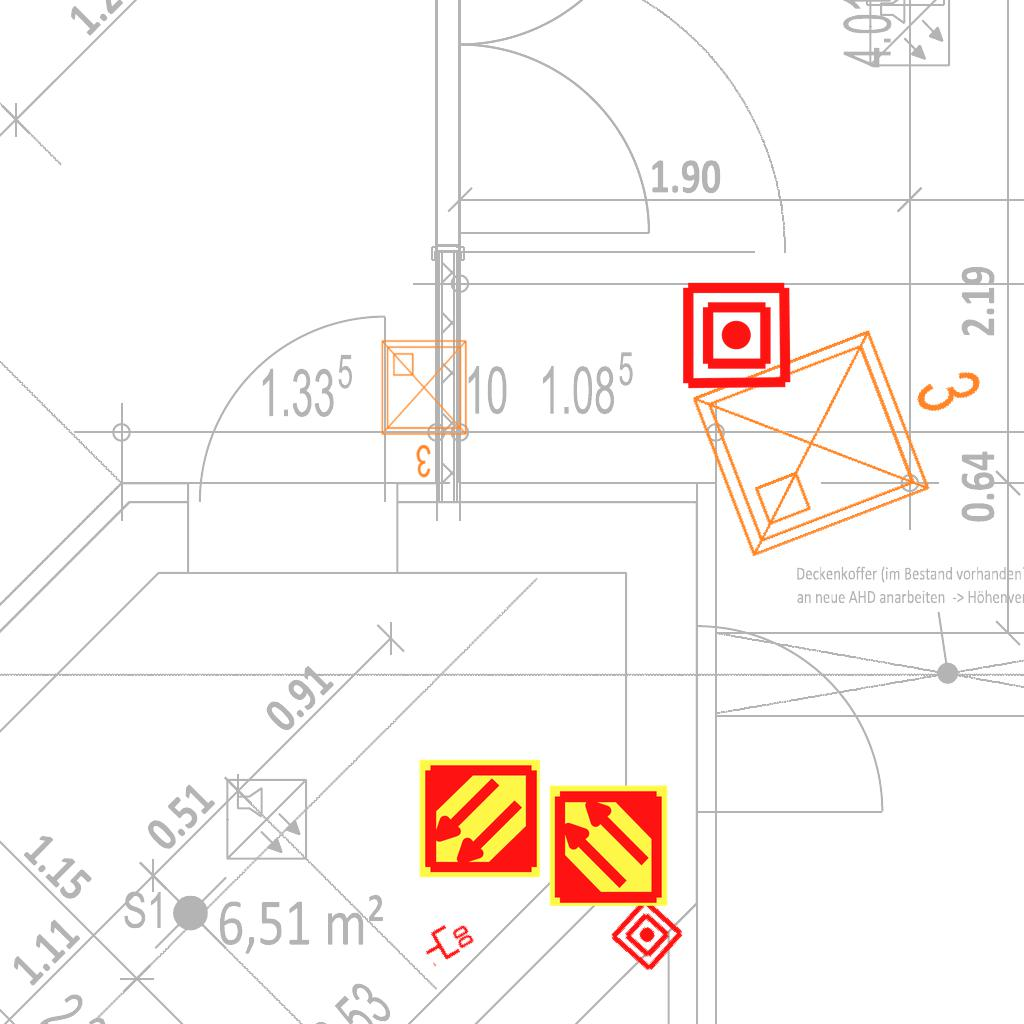ASR_Ansaugrauchmelder: (546, 783, 671, 908), (417, 756, 542, 881)
Datenanschluss_zweifach: (416, 913, 478, 968)
Einbaudownlights_LED_Konferenzraeume: (670, 274, 1024, 576), (374, 333, 478, 483)
NAM-Nichtautomatischer_Melder: (680, 279, 793, 392), (607, 895, 687, 975)
